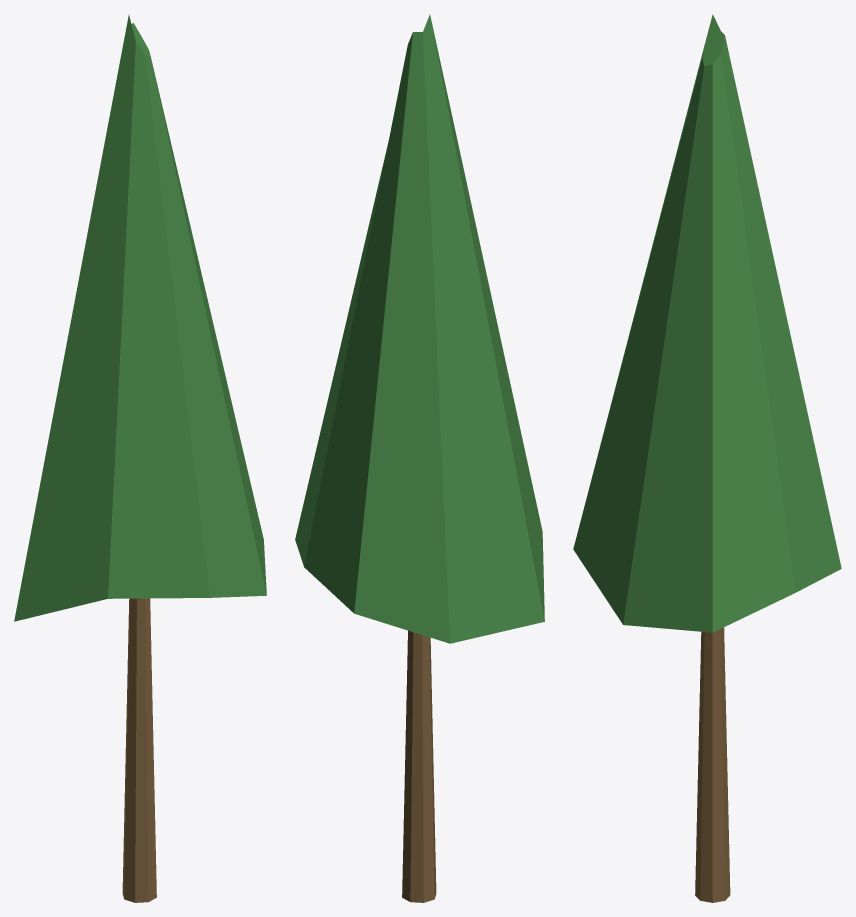
Rendered from pine_tree_1.glb.
3 renders of one model, left to right at view 1: azimuth 30°, elevation 25°; view 2: azimuth 150°, elevation 25°; view 3: azimuth 270°, elevation 25°, orthographic.
Visible parts, largest first — view 1: pine_tree_1_canopy, pine_tree_1_trunk; view 2: pine_tree_1_canopy, pine_tree_1_trunk; view 3: pine_tree_1_canopy, pine_tree_1_trunk.
Part boxes in pixels (x1,y1,x2,y2): pine_tree_1_canopy: (14, 15, 266, 621); pine_tree_1_trunk: (122, 598, 156, 902); pine_tree_1_canopy: (295, 14, 544, 643); pine_tree_1_trunk: (402, 630, 436, 902); pine_tree_1_canopy: (573, 14, 841, 632); pine_tree_1_trunk: (695, 627, 730, 902).
Size of the model in its own units: 2.53 by 8.56 by 2.38.
